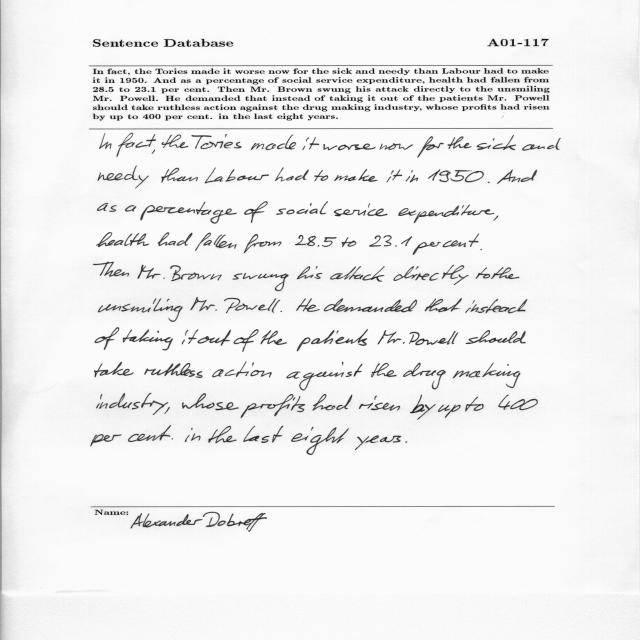word: (140, 202, 237, 224), (287, 362, 363, 390), (99, 298, 183, 322), (398, 205, 494, 223), (453, 363, 521, 388), (291, 427, 349, 455), (97, 393, 169, 415), (297, 329, 368, 351), (241, 394, 305, 418), (394, 265, 469, 285), (324, 299, 417, 313), (98, 166, 149, 189), (403, 363, 446, 389), (161, 134, 233, 149), (123, 330, 173, 351), (205, 168, 269, 184), (233, 273, 289, 291), (182, 394, 239, 411), (116, 133, 156, 157), (212, 362, 272, 378), (144, 363, 203, 378), (330, 266, 385, 282), (466, 299, 528, 313), (224, 298, 280, 313), (466, 330, 526, 344), (170, 265, 222, 281), (128, 425, 173, 442), (195, 233, 237, 251), (428, 169, 484, 182), (276, 201, 328, 215), (97, 233, 149, 247), (244, 234, 282, 253), (334, 204, 388, 217), (243, 426, 284, 443), (355, 435, 401, 450), (409, 331, 458, 345), (313, 394, 353, 411), (443, 234, 482, 251), (410, 395, 436, 420), (359, 396, 400, 411), (497, 169, 537, 184), (498, 395, 538, 410), (417, 136, 444, 158), (477, 135, 516, 150), (95, 362, 134, 377), (197, 329, 231, 346), (234, 329, 259, 352), (334, 169, 378, 182), (161, 168, 198, 183), (95, 328, 119, 350), (94, 262, 129, 277), (425, 298, 462, 312), (369, 235, 412, 247), (275, 167, 309, 182), (522, 138, 561, 151), (244, 202, 268, 223), (295, 235, 337, 247), (209, 426, 237, 443), (158, 233, 193, 246), (266, 135, 296, 150), (260, 330, 287, 345), (137, 265, 165, 279), (190, 297, 217, 311), (378, 330, 405, 344), (91, 434, 122, 446), (324, 144, 376, 151), (413, 242, 441, 255), (371, 363, 397, 377), (297, 266, 323, 279), (491, 267, 519, 279), (296, 298, 320, 312), (448, 136, 472, 149), (438, 404, 460, 418), (465, 397, 484, 411), (234, 142, 264, 150), (182, 330, 198, 345), (380, 143, 414, 150), (302, 137, 319, 150), (387, 169, 402, 183), (185, 428, 200, 442), (100, 133, 112, 149), (98, 203, 117, 212), (476, 267, 490, 279), (406, 170, 418, 183), (315, 170, 329, 181), (342, 237, 356, 247), (125, 205, 136, 212), (164, 407, 170, 414), (494, 216, 499, 221), (152, 150, 155, 154), (406, 441, 408, 443), (488, 182, 490, 183), (281, 311, 283, 312)
